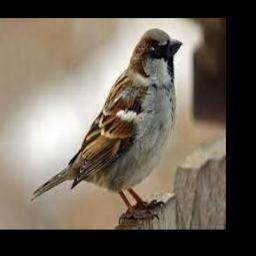Sparrow: (31, 29, 182, 222)
